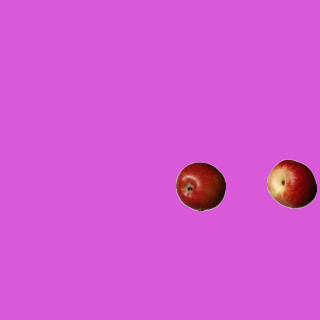Apple Braeburn: (175, 161, 225, 211)
Nectarine: (266, 158, 316, 208)
